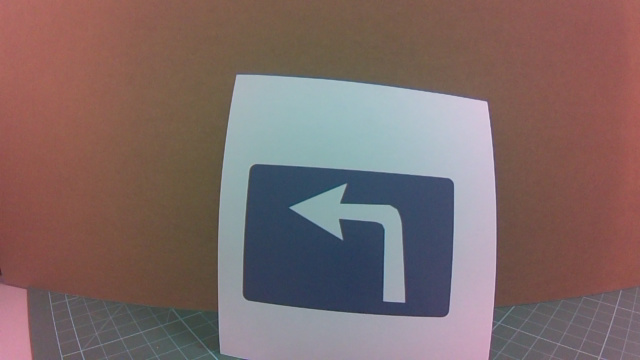left: (262, 155, 437, 326)
